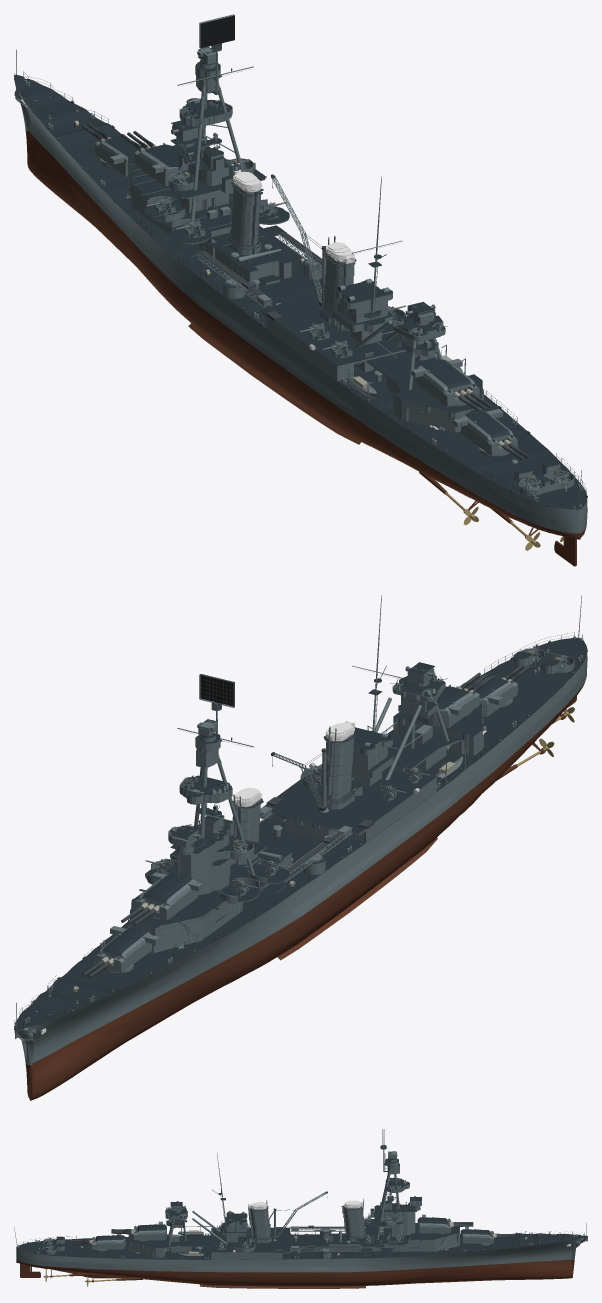
File: pensacola.glb
3 renders of one model, top to bottom at view 1: azimuth 30°, elevation 25°; view 2: azimuth 150°, elevation 25°; view 3: azimuth 270°, elevation 25°, orthographic. The views are drawn at different scales.
Visible parts, largest first — view 1: Blueprint lofted hull, midships-9.mesh, main-3.yaw.mesh, main-4.yaw.mesh, after-deckhouse-4.mesh, foremast.mesh, midships-21.mesh, main-2.yaw.mesh, midships-10.mesh, catapult-port.mesh, mainmast.mesh, bilge-keels.mesh (+10 smaller); view 2: Blueprint lofted hull, midships-9.mesh, main-2.yaw.mesh, main-1.yaw.mesh, midships-21.mesh, main-3.yaw.mesh, mainmast.mesh, after-deckhouse-4.mesh, main-4.yaw.mesh, foremast.mesh, midships-10.mesh, bilge-keels.mesh (+7 smaller); view 3: Blueprint lofted hull, midships-9.mesh, midships-21.mesh, main-2.yaw.mesh, main-3.yaw.mesh, mainmast.mesh, midships-11.mesh, bilge-keels.mesh, main-1.yaw.mesh, main-4.yaw.mesh, catapult-starboard.mesh, after-deckhouse-2.mesh (+12 smaller).
Boxes of the visible parts, bbox=[...] form: Blueprint lofted hull: bbox=[14, 75, 587, 539]; midships-9.mesh: bbox=[260, 293, 406, 367]; main-3.yaw.mesh: bbox=[411, 358, 480, 406]; main-4.yaw.mesh: bbox=[453, 409, 518, 455]; after-deckhouse-4.mesh: bbox=[393, 374, 483, 418]; foremast.mesh: bbox=[177, 51, 253, 222]; midships-21.mesh: bbox=[260, 311, 461, 419]; main-2.yaw.mesh: bbox=[134, 142, 178, 186]; midships-10.mesh: bbox=[267, 317, 353, 380]; catapult-port.mesh: bbox=[197, 251, 282, 320]; mainmast.mesh: bbox=[352, 176, 442, 390]; bilge-keels.mesh: bbox=[188, 323, 360, 444]; Blueprint lofted hull: bbox=[14, 637, 587, 1100]; midships-9.mesh: bbox=[261, 764, 436, 834]; main-2.yaw.mesh: bbox=[134, 872, 202, 920]; main-1.yaw.mesh: bbox=[94, 926, 159, 972]; midships-21.mesh: bbox=[272, 722, 483, 835]; main-3.yaw.mesh: bbox=[416, 684, 480, 727]; mainmast.mesh: bbox=[352, 595, 449, 780]; after-deckhouse-4.mesh: bbox=[393, 703, 483, 741]; main-4.yaw.mesh: bbox=[455, 675, 518, 716]; foremast.mesh: bbox=[177, 711, 255, 875]; midships-10.mesh: bbox=[349, 779, 436, 842]; bilge-keels.mesh: bbox=[277, 838, 437, 960]; Blueprint lofted hull: bbox=[16, 1233, 587, 1286]; midships-9.mesh: bbox=[210, 1227, 291, 1252]; midships-21.mesh: bbox=[129, 1233, 292, 1253]; main-2.yaw.mesh: bbox=[417, 1214, 451, 1233]; main-3.yaw.mesh: bbox=[133, 1221, 166, 1240]; mainmast.mesh: bbox=[168, 1153, 227, 1245]; midships-11.mesh: bbox=[211, 1253, 282, 1259]; bilge-keels.mesh: bbox=[199, 1284, 365, 1288]; main-1.yaw.mesh: bbox=[460, 1226, 494, 1243]; main-4.yaw.mesh: bbox=[92, 1234, 125, 1249]; catapult-starboard.mesh: bbox=[275, 1245, 359, 1252]; after-deckhouse-2.mesh: bbox=[128, 1241, 191, 1257].
Bounding box in the file's own units: 20.56 × 49.98 × 179.
13 materials, 10 textured.
